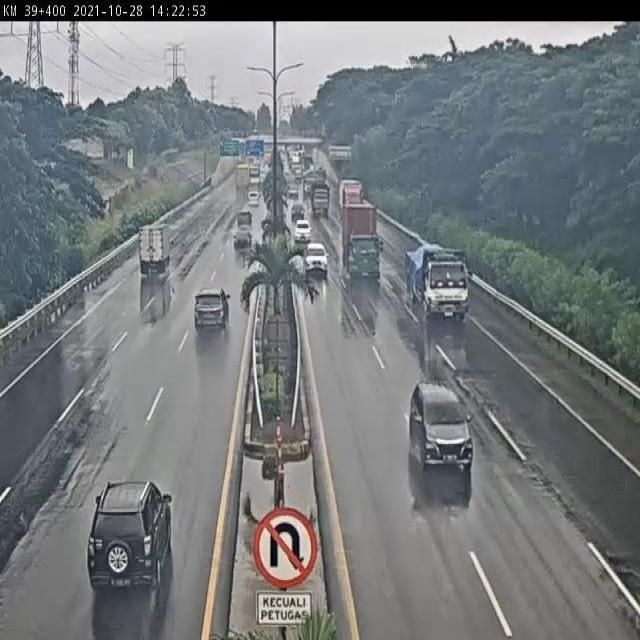car: (85, 478, 173, 590)
truck-l-: (405, 244, 475, 324)
truck-m-: (140, 223, 175, 273)
truck-xl-: (343, 204, 385, 284)
